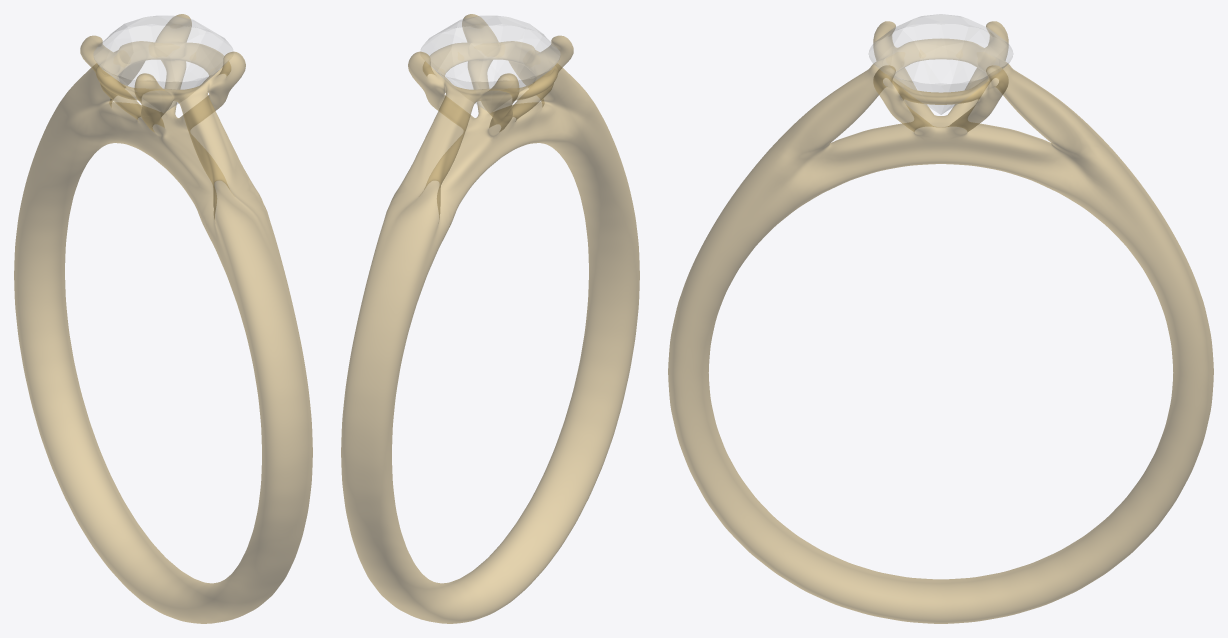
3 views of the same model, side by side, from view 1: azimuth 30°, elevation 25°; view 2: azimuth 150°, elevation 25°; view 3: azimuth 270°, elevation 25° (orthographic). The views are drawn at different scales.
Visible parts, largest first — view 1: Ring, Diamond; view 2: Ring, Diamond; view 3: Ring, Diamond.
Part boxes in pixels (x1,y1,x2,y2): Ring: (14,14,312,623); Diamond: (93,16,233,112); Ring: (341,14,639,623); Diamond: (420,16,560,112); Ring: (668,21,1213,623); Diamond: (869,14,1012,114).
Size of the model in its own units: 0.6116 by 2.75 by 2.31.
